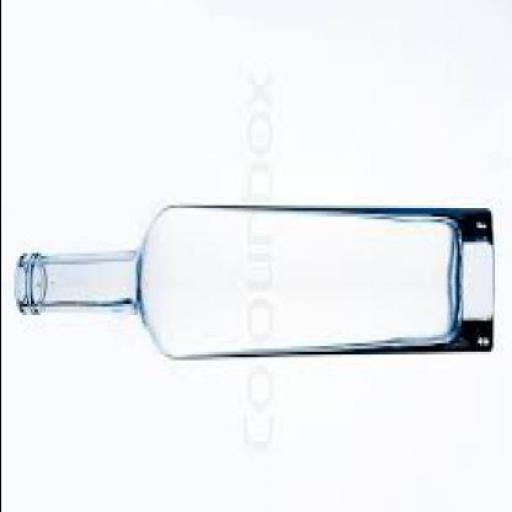glass: (9, 211, 489, 360)
